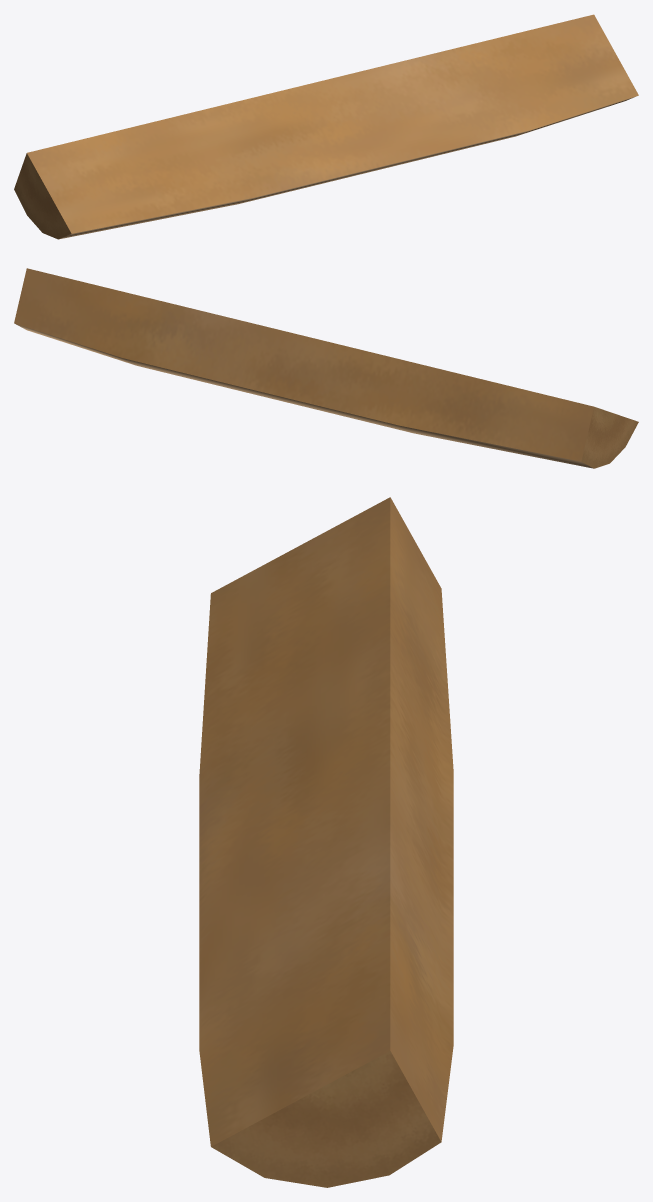
File: Timber_Cut_2.fbx
3 views of the same model, one above another, from view 1: azimuth 30°, elevation 25°; view 2: azimuth 150°, elevation 25°; view 3: azimuth 270°, elevation 25° (orthographic). The views are drawn at different scales.
Parts seen in each view (by area): view 1: Cylinder.085; view 2: Cylinder.085; view 3: Cylinder.085.
Part boxes in pixels (box(x1,y1,x2,y2)): Cylinder.085: box(14, 14, 638, 239); Cylinder.085: box(14, 268, 638, 468); Cylinder.085: box(199, 497, 453, 1187).
Bounding box in the file's own units: 84.28 × 10.82 × 16.37.
